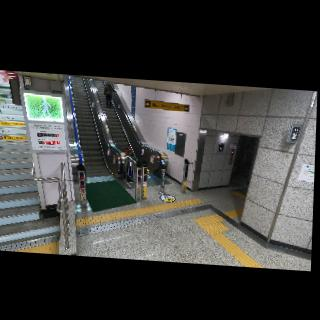anomaly: (119, 144, 132, 155)
normal: (103, 81, 117, 108)
